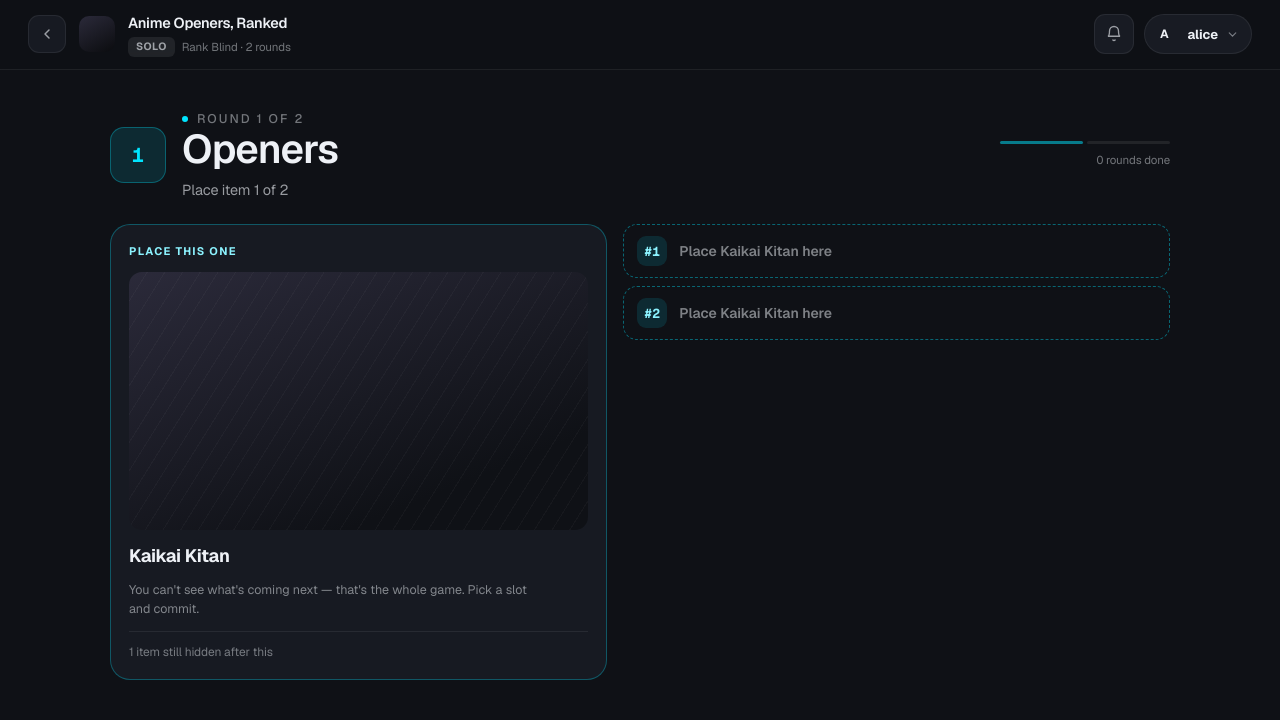
RankPlayScreen › shows the round-complete eyebrow and names the next round via roundHeading
Expected: the text "Kaikai Kitan" is shown, [129,544,230,567]
Click the text "#1": [652, 251] box [637,236,667,266]
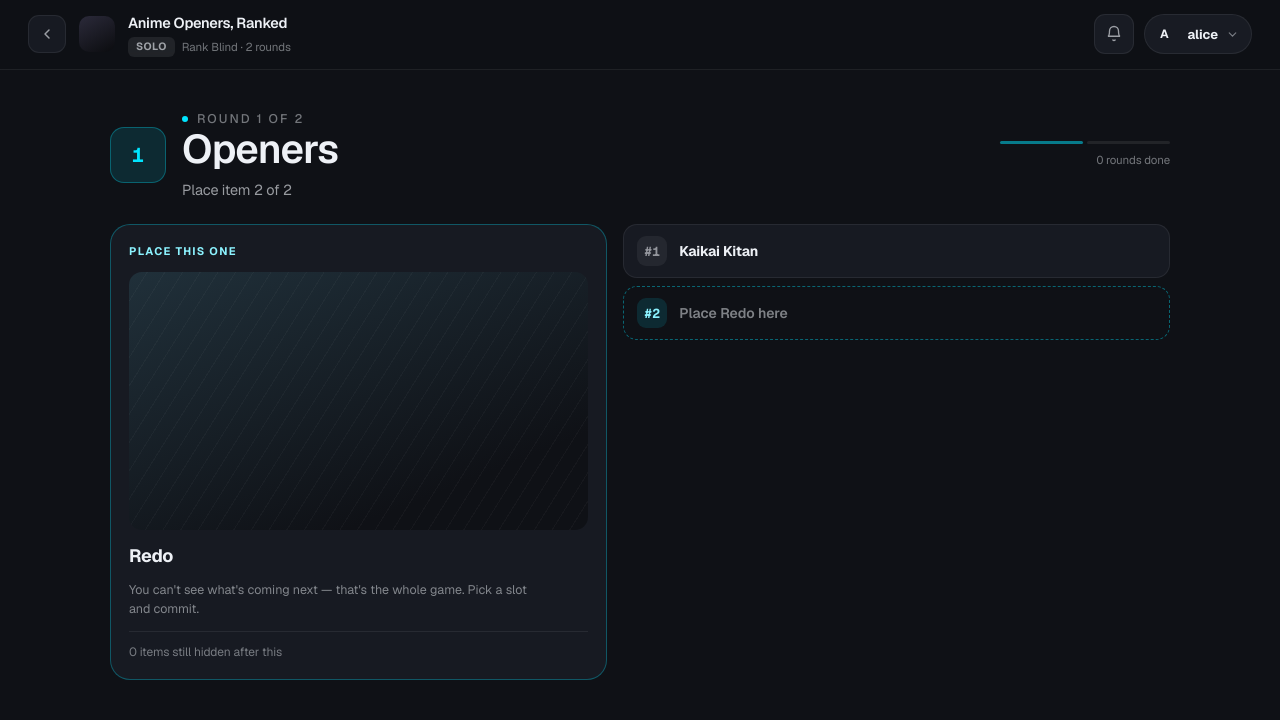
Result: the text "Redo" is shown at [129,544,173,567]
Click the text "#2": [652, 313] box [637,298,667,328]
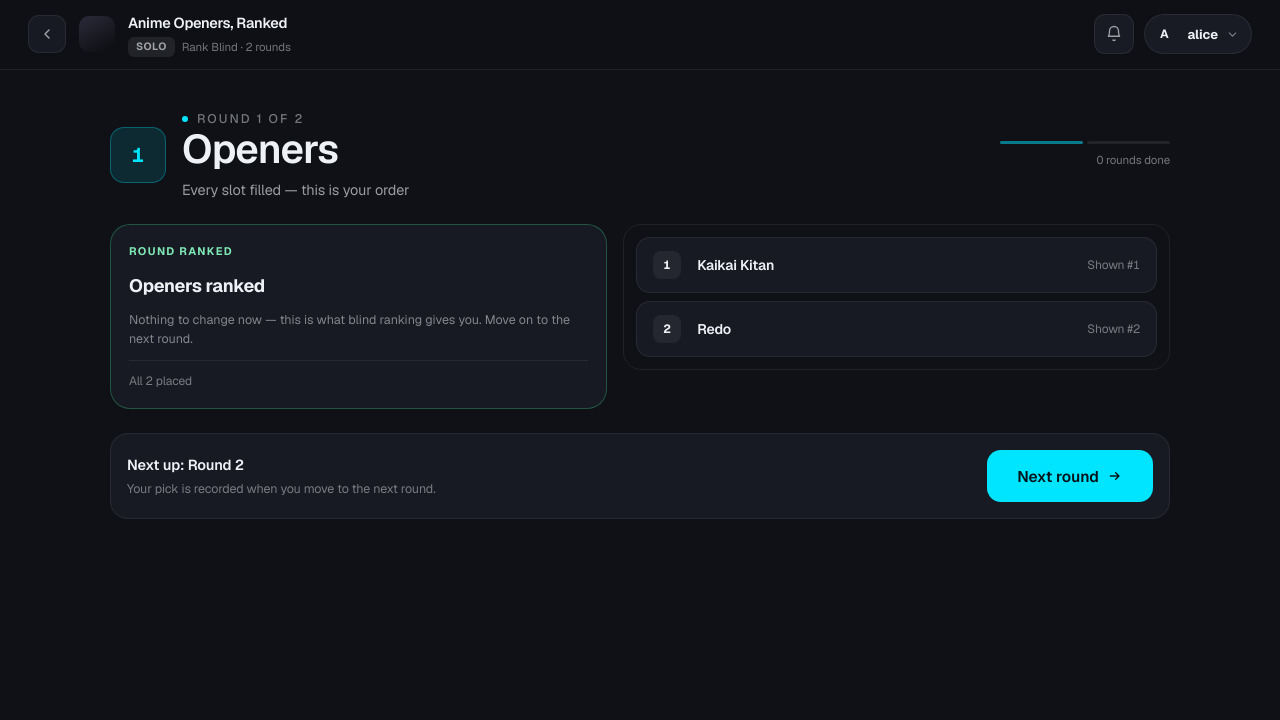
Result: the text "Round ranked" is shown at [129,244,233,258]
Result: the text "Next up: Round 2" is shown at [127,455,244,474]
